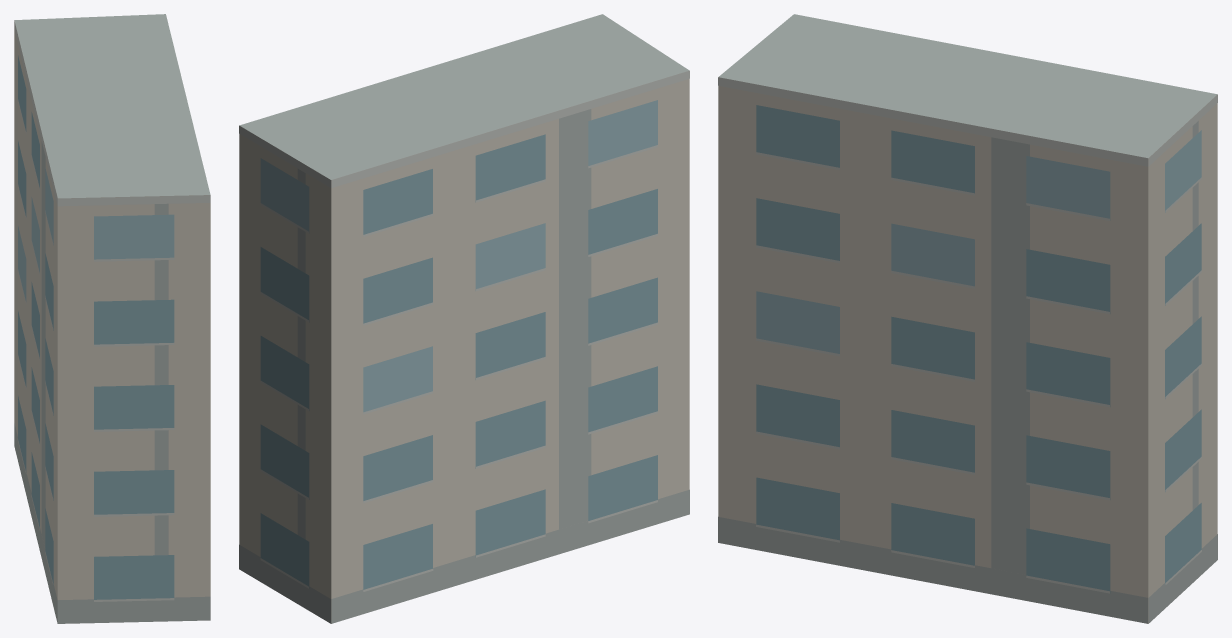
File: survey-upis-32728749.glb
3 renders of one model, left to right at view 1: azimuth 30°, elevation 25°; view 2: azimuth 150°, elevation 25°; view 3: azimuth 270°, elevation 25°, orthographic. The views are drawn at different scales.
Visible parts, largest first — view 1: survey-upis-32728749.tmp; view 2: survey-upis-32728749.tmp; view 3: survey-upis-32728749.tmp.
Part boxes in pixels (box(x1,y1,x2,y2)): survey-upis-32728749.tmp: box(14, 14, 210, 623); survey-upis-32728749.tmp: box(239, 14, 689, 623); survey-upis-32728749.tmp: box(718, 14, 1217, 623).
Bounding box in the file's own units: 8.78 × 13.2 × 12.84.
